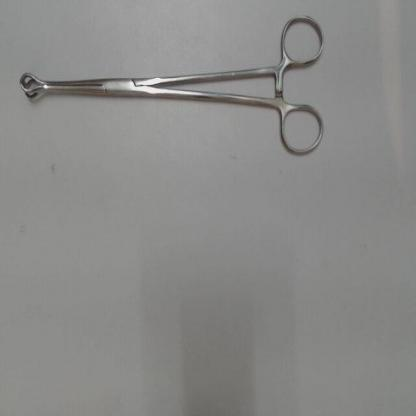8 Babcock Tissue Forceps: (13, 8, 328, 164)
